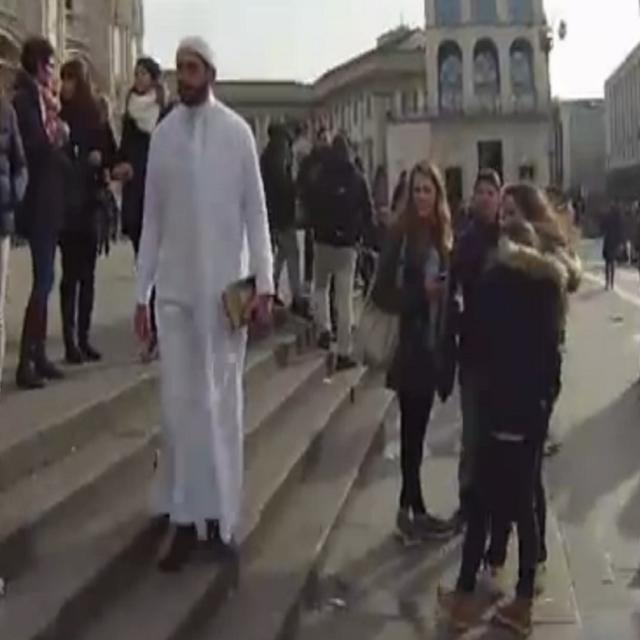body: (129, 31, 278, 578), (434, 215, 570, 640), (366, 152, 464, 550), (483, 181, 581, 575), (444, 166, 506, 540), (48, 57, 120, 367), (9, 37, 67, 386), (302, 129, 376, 373), (112, 54, 170, 364), (0, 38, 30, 400), (259, 119, 311, 316), (294, 126, 332, 294), (543, 180, 603, 240), (390, 165, 411, 244), (98, 177, 117, 260), (620, 199, 640, 266), (338, 126, 368, 170), (600, 224, 618, 292), (372, 203, 391, 260), (360, 244, 380, 295), (449, 190, 468, 225), (372, 166, 388, 194)
